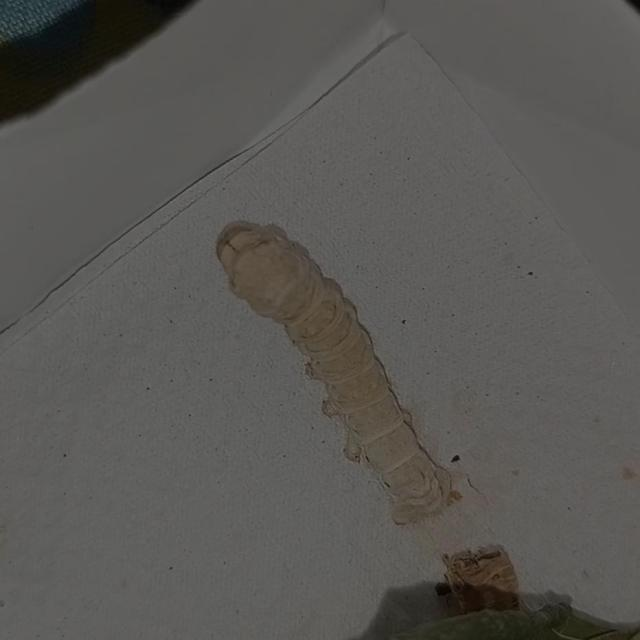Healthy: (194, 212, 491, 535)
